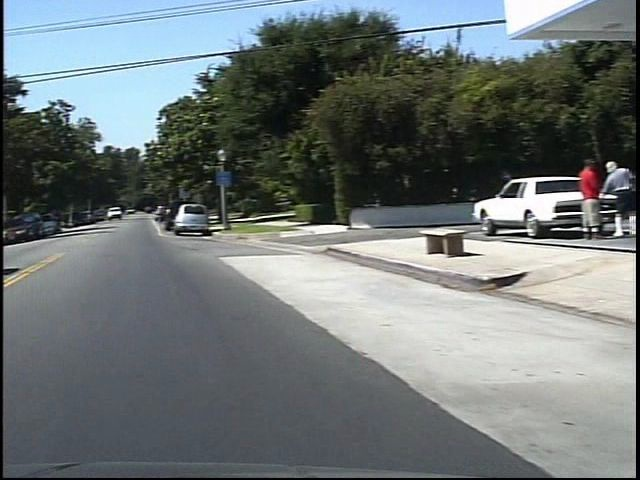person: (584, 158, 623, 244), (564, 156, 593, 245)
